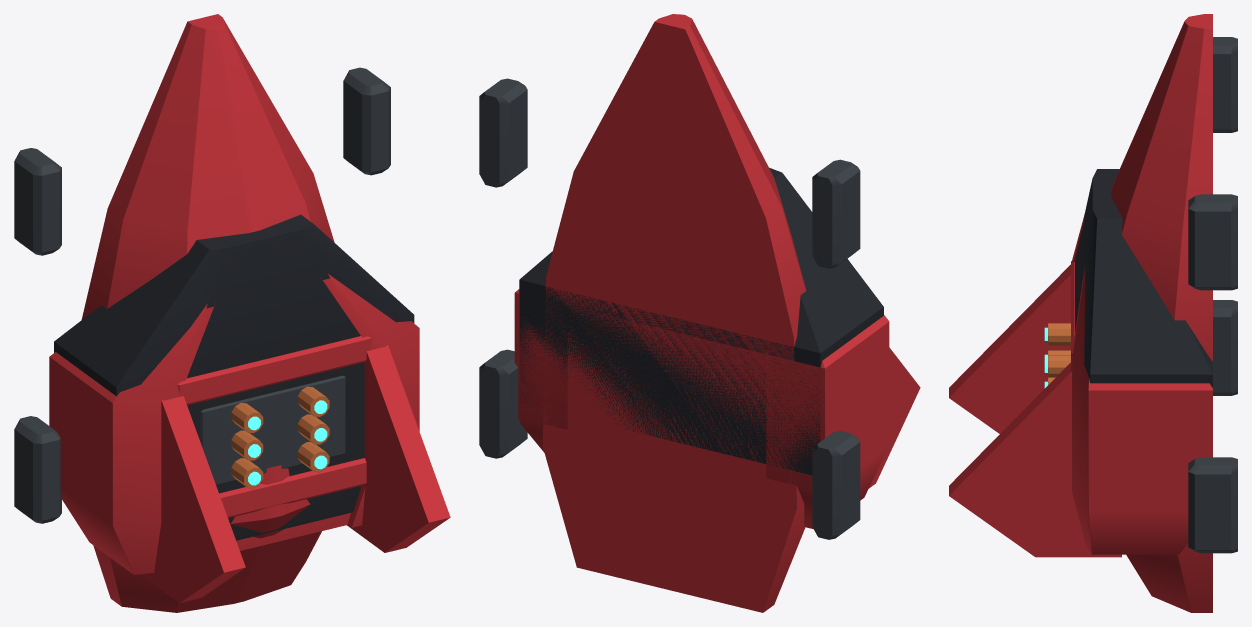
File: CalfBack_Set06_Voltaic.fbx
3 views of the same model, side by side, from view 1: azimuth 30°, elevation 25°; view 2: azimuth 150°, elevation 25°; view 3: azimuth 270°, elevation 25° (orthographic). The views are drawn at different scales.
Visible parts, largest first — view 1: CalfBack_Set06_Voltaic; view 2: CalfBack_Set06_Voltaic; view 3: CalfBack_Set06_Voltaic.
Part boxes in pixels (x1,y1,x2,y2): CalfBack_Set06_Voltaic: (14, 14, 450, 612); CalfBack_Set06_Voltaic: (479, 14, 920, 612); CalfBack_Set06_Voltaic: (949, 14, 1237, 612).
Bounding box in the file's own units: 0.49 × 0.73 × 0.3489.
